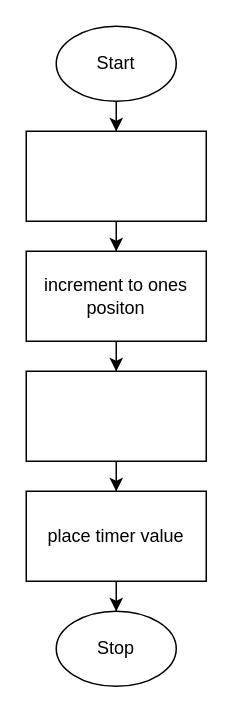
The diagram is 233 pixels wide and 713 high, and some of its shapes have lost their labels. Each missing label, with the centre of its shape:
"num_digits" goes at (115,175).
"sub by num_digits" goes at (115,415).
